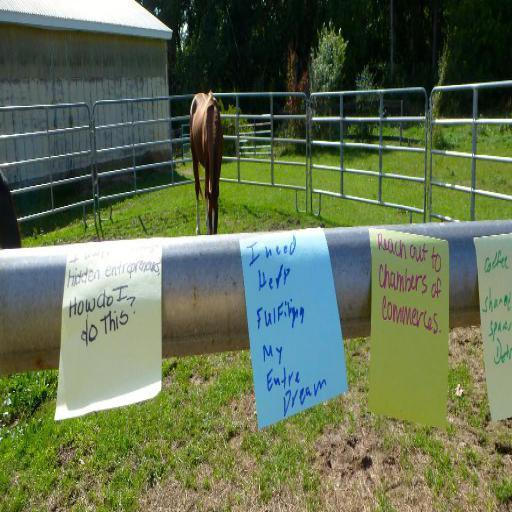horse: (188, 88, 226, 236)
